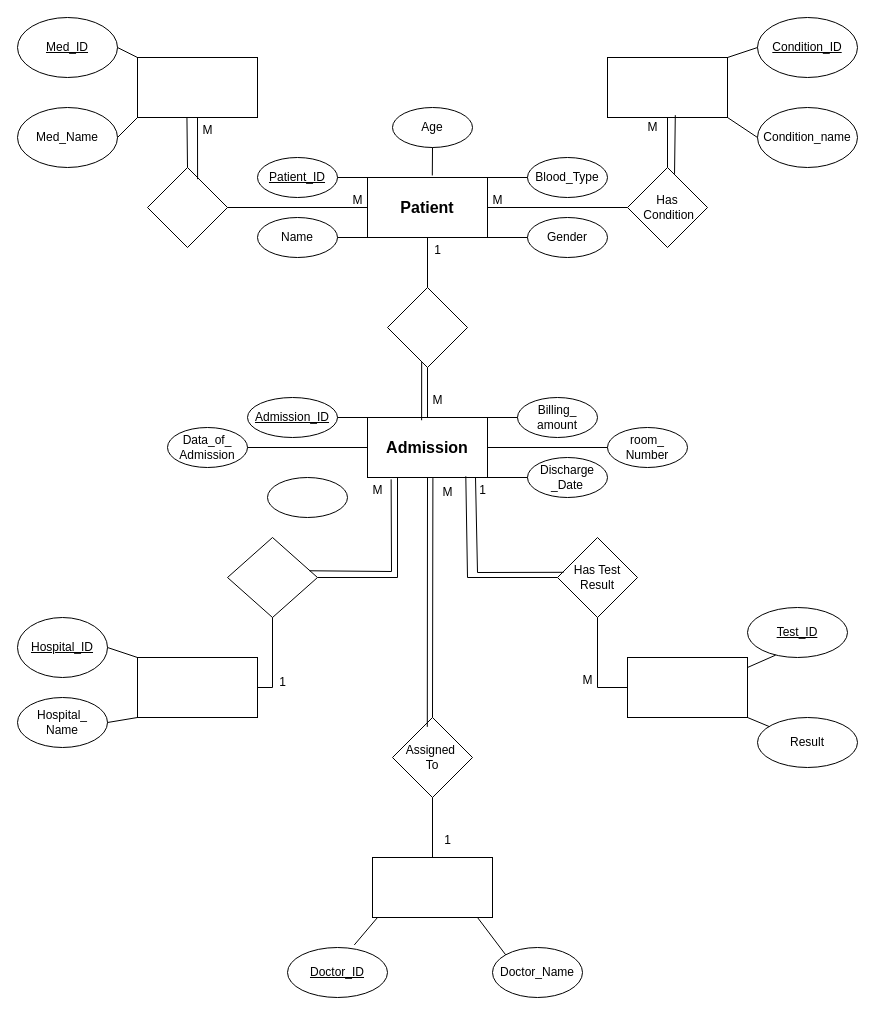
This 875x1015 diagram has some shape labels left out. The shapes that lost their labels are listed below. From the top down, each one's centre as x and y in pixels, then its label:
the point at 197,87: Medication
the point at 667,87: Medical Condition
the point at 187,207: Prescribed
the point at 427,327: Admits
the point at 307,497: Admission_ Type
the point at 272,577: Conducted In
the point at 197,687: Hospital
the point at 687,687: Test Result
the point at 432,887: Doctor
